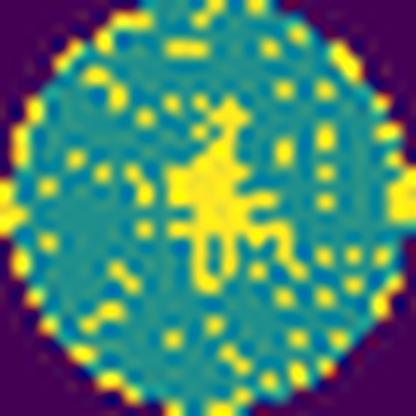Center: (166, 100, 267, 289)
